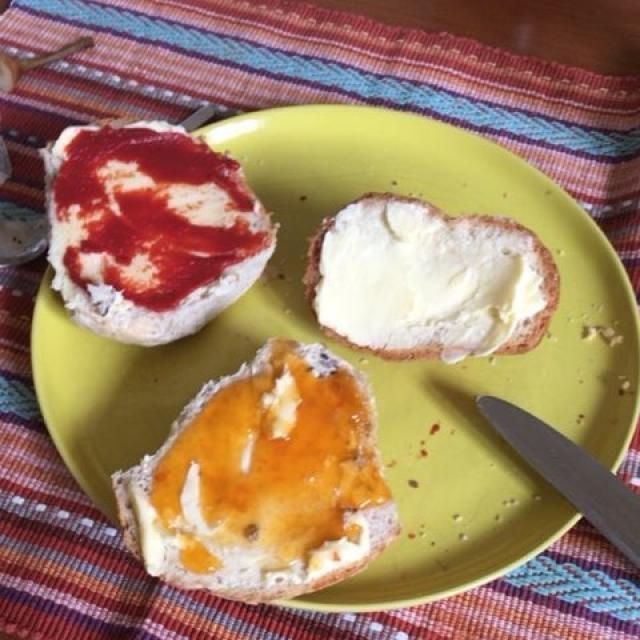bread: (15, 110, 567, 621)
jam: (62, 136, 388, 568)
